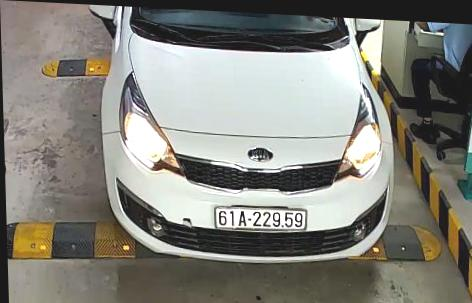License_Plate: (212, 205, 309, 236)
